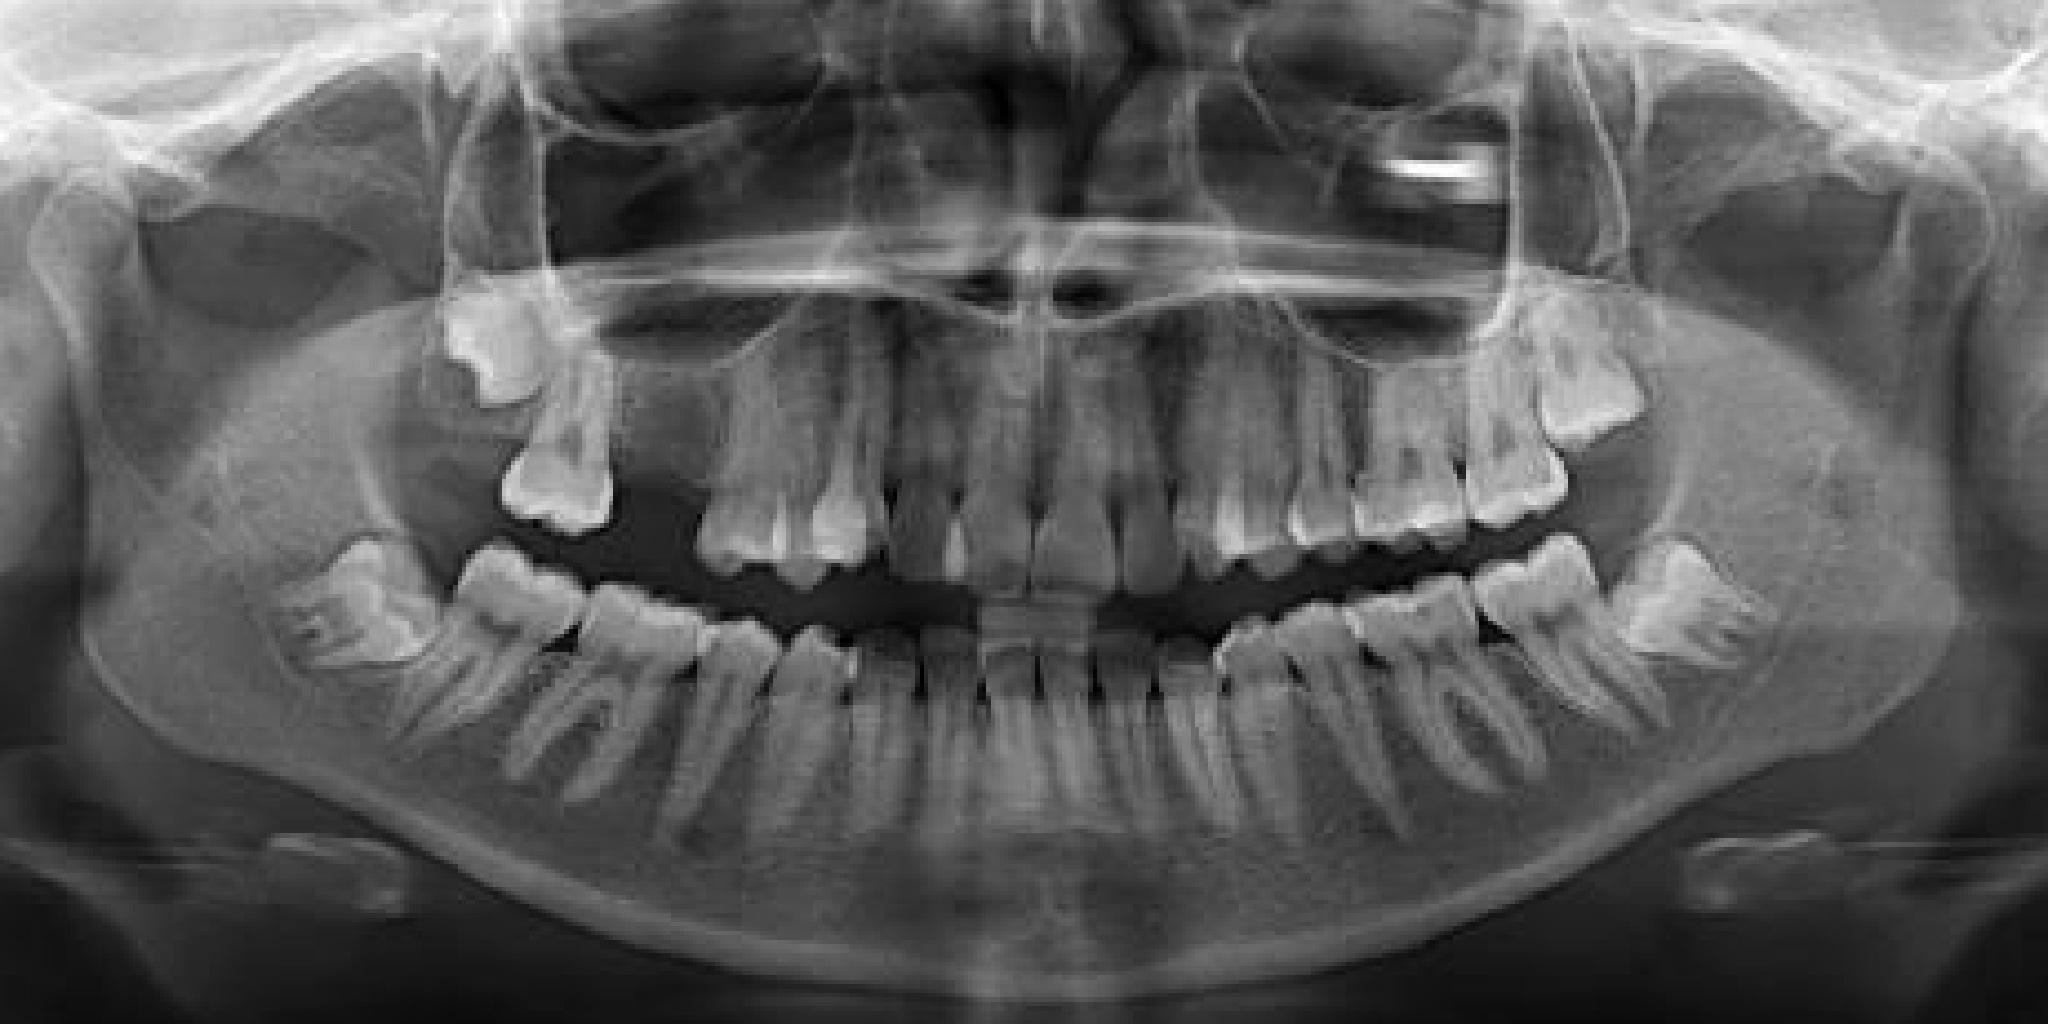Tooth: (388, 492, 784, 934), (1395, 441, 1791, 882), (1272, 486, 1657, 930), (1514, 415, 1893, 861), (154, 349, 532, 795), (274, 449, 652, 895), (1183, 509, 1539, 957), (532, 522, 867, 968), (1411, 115, 1725, 558), (630, 537, 944, 980), (1058, 539, 1361, 980), (376, 74, 667, 511), (434, 191, 718, 626), (1128, 534, 1413, 969), (939, 529, 1224, 964), (1000, 542, 1280, 974), (866, 226, 1138, 657), (952, 236, 1224, 667), (887, 526, 1155, 953), (805, 547, 1072, 974), (1366, 187, 1633, 615), (739, 556, 1006, 984), (1190, 209, 1450, 635), (1287, 212, 1546, 637), (626, 225, 879, 648), (795, 216, 1044, 636), (1012, 235, 1259, 656), (691, 218, 925, 633), (1101, 212, 1328, 624), (1143, 229, 1370, 641), (752, 204, 967, 611)
